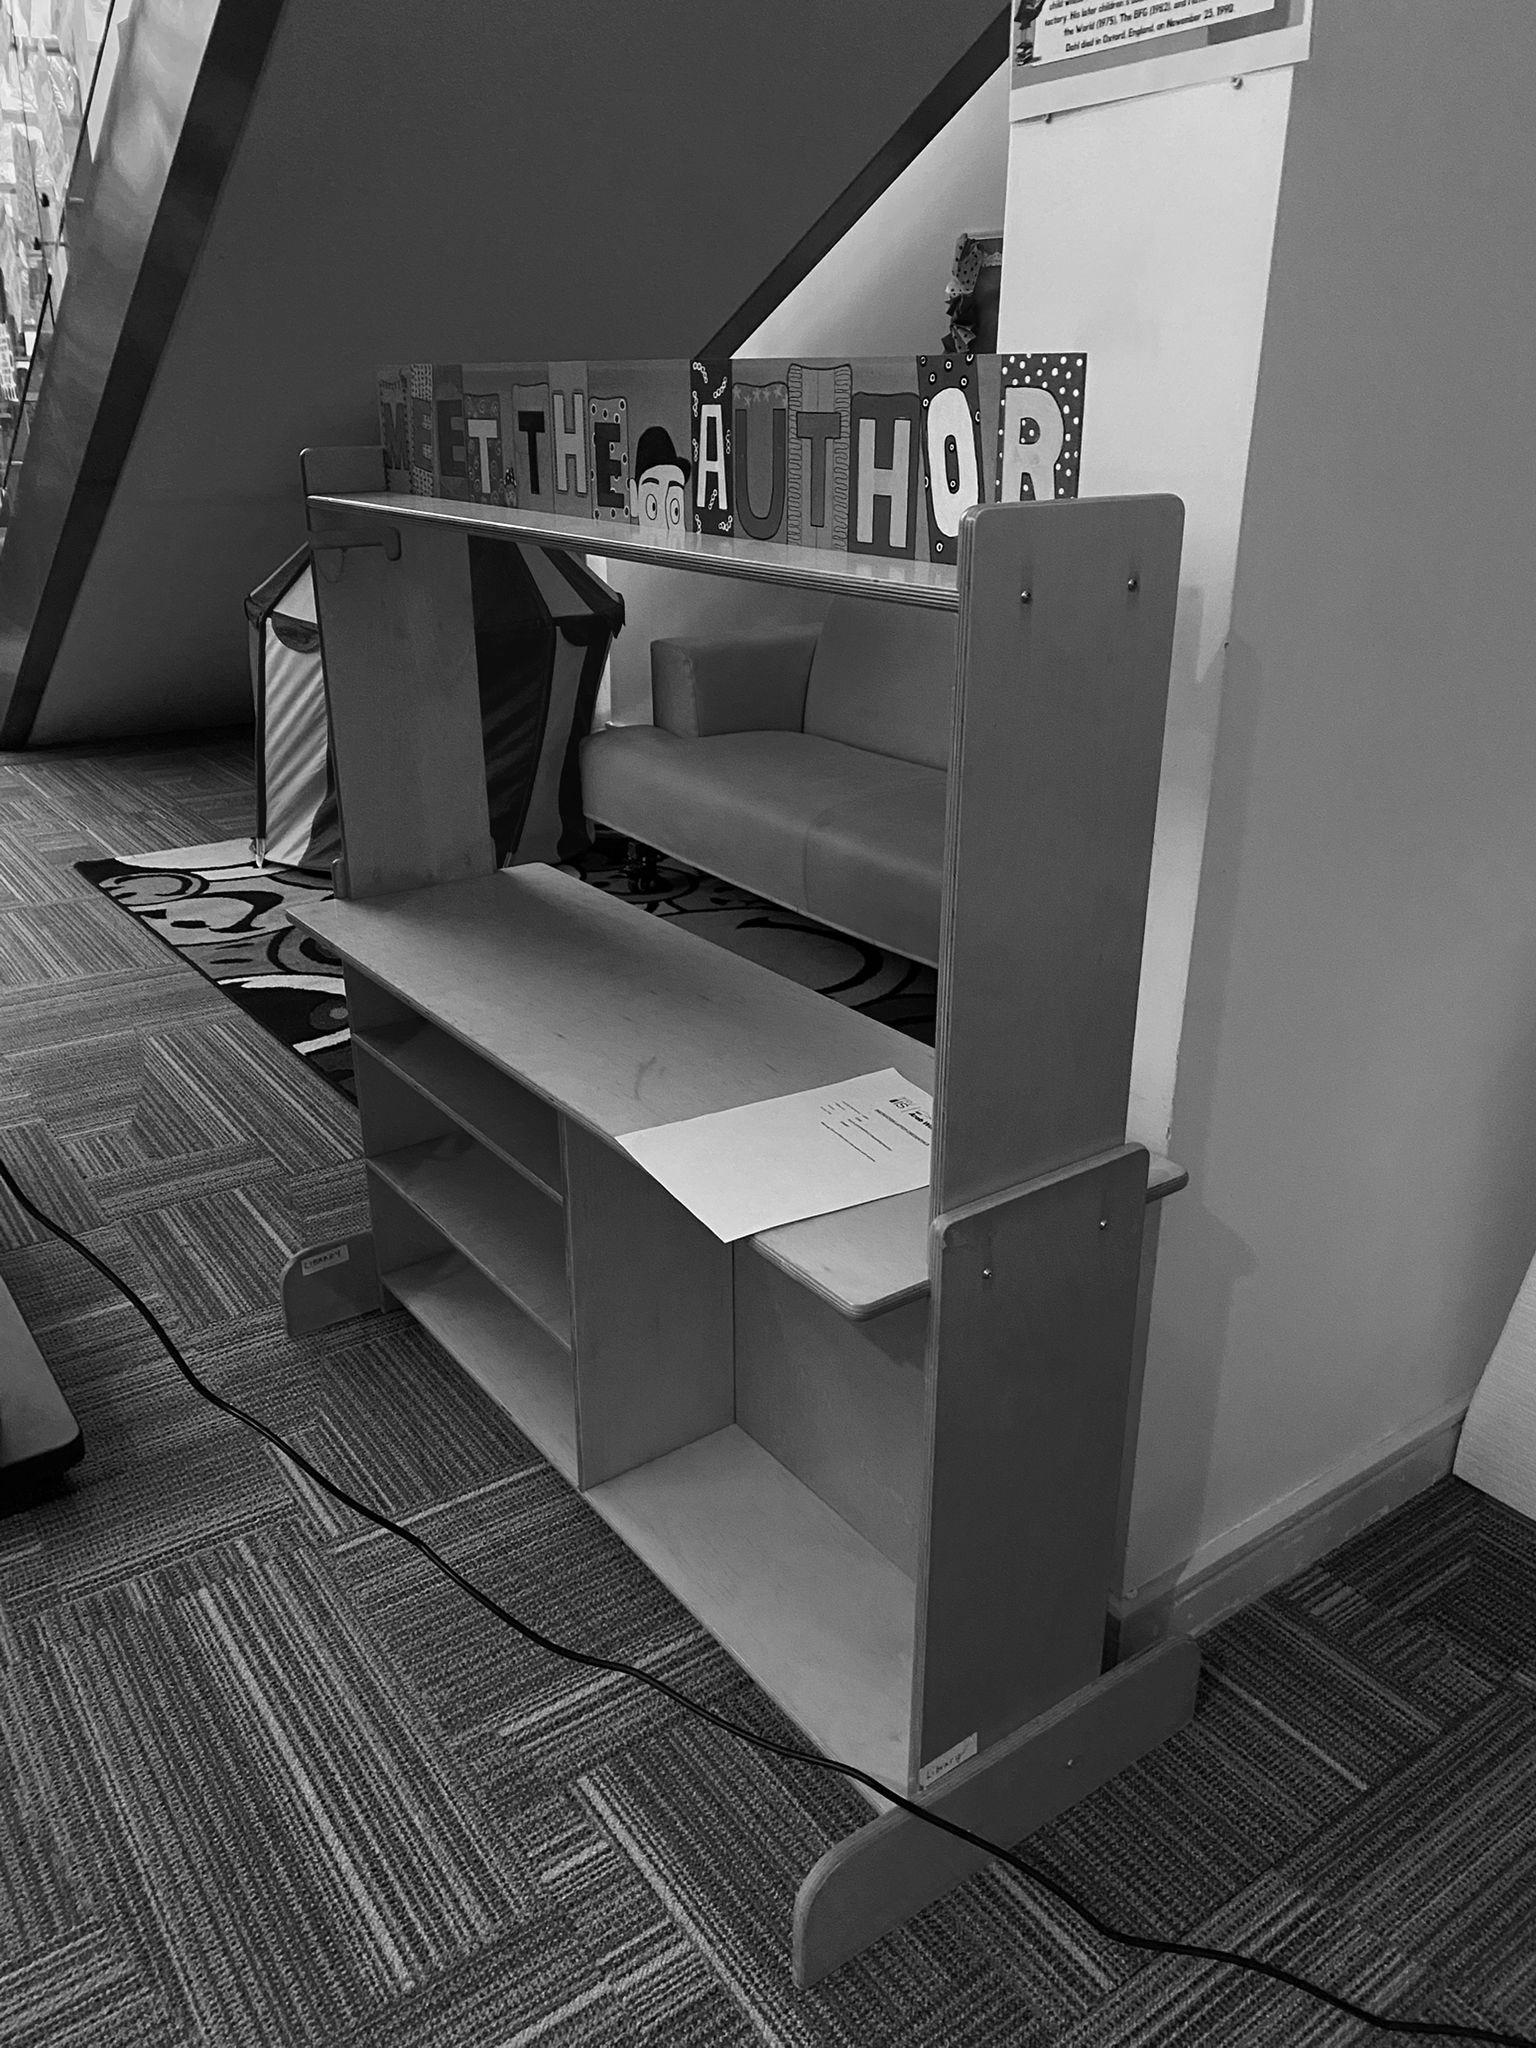Couch: (579, 598, 954, 964)
Wall: (999, 0, 1534, 1632), (736, 69, 1008, 356)
